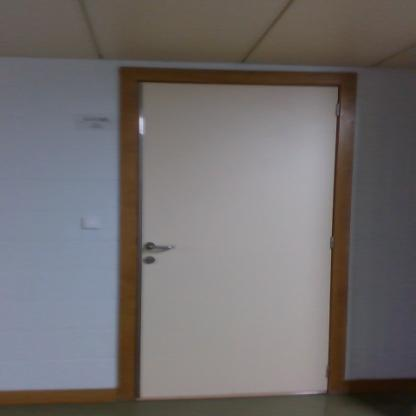closed: (116, 59, 370, 416)
